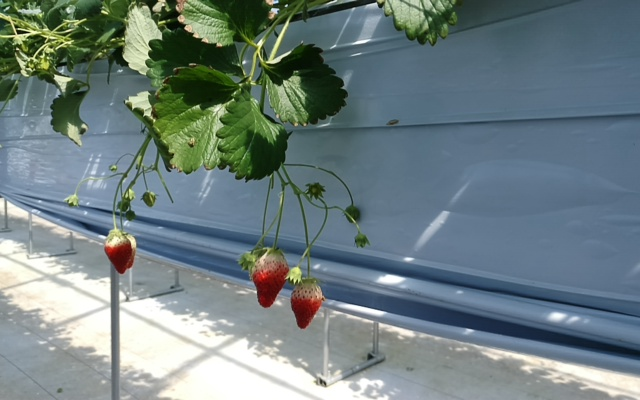MatureStrawberry: (246, 245, 293, 310), (291, 279, 325, 331), (106, 231, 136, 275)
